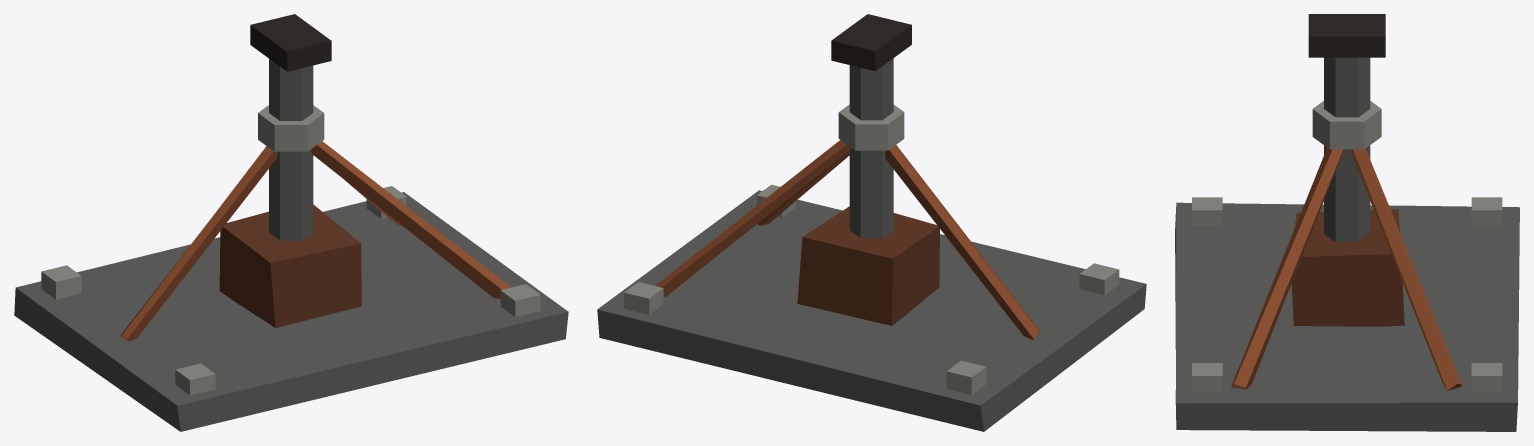
Rendered from wmount_pintle.glb.
3 renders of one model, left to right at view 1: azimuth 30°, elevation 25°; view 2: azimuth 150°, elevation 25°; view 3: azimuth 270°, elevation 25°, orthographic. The views are drawn at different scales.
Parts seen in each view (by area): view 1: wmount_pintle; view 2: wmount_pintle; view 3: wmount_pintle.
Boxes of the visible parts, x1,y1,x2,y2 form: wmount_pintle: (14,14,568,431); wmount_pintle: (597,14,1146,431); wmount_pintle: (1175,14,1519,431).
Bounding box in the file's own units: 0.6132 × 0.4425 × 0.4489.
